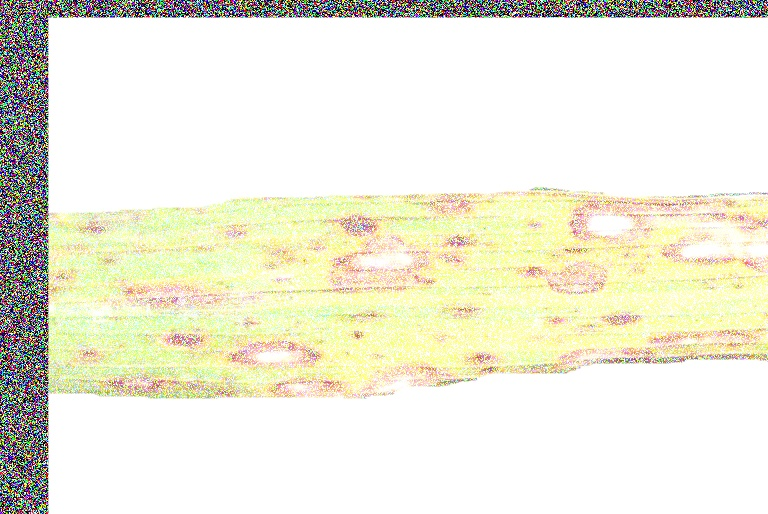Bacterial_Leaf_Blight: (551, 324, 768, 369), (323, 220, 451, 292), (97, 274, 278, 315), (651, 212, 768, 271), (521, 245, 633, 303), (553, 187, 658, 243), (357, 353, 466, 398), (102, 371, 241, 403), (221, 333, 328, 366), (270, 371, 348, 402), (149, 321, 217, 354), (332, 207, 389, 238), (596, 302, 650, 331), (466, 345, 506, 380), (416, 197, 480, 214), (77, 217, 119, 239), (444, 295, 487, 316), (72, 343, 111, 364)
